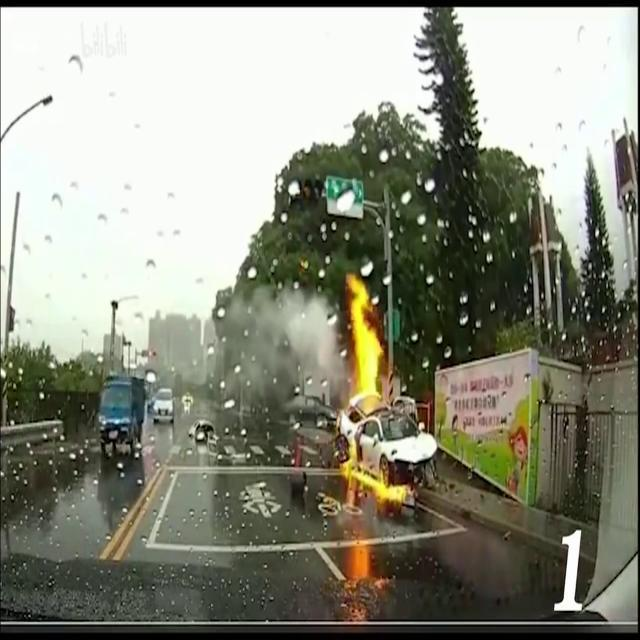single accident: (262, 355, 483, 527)
